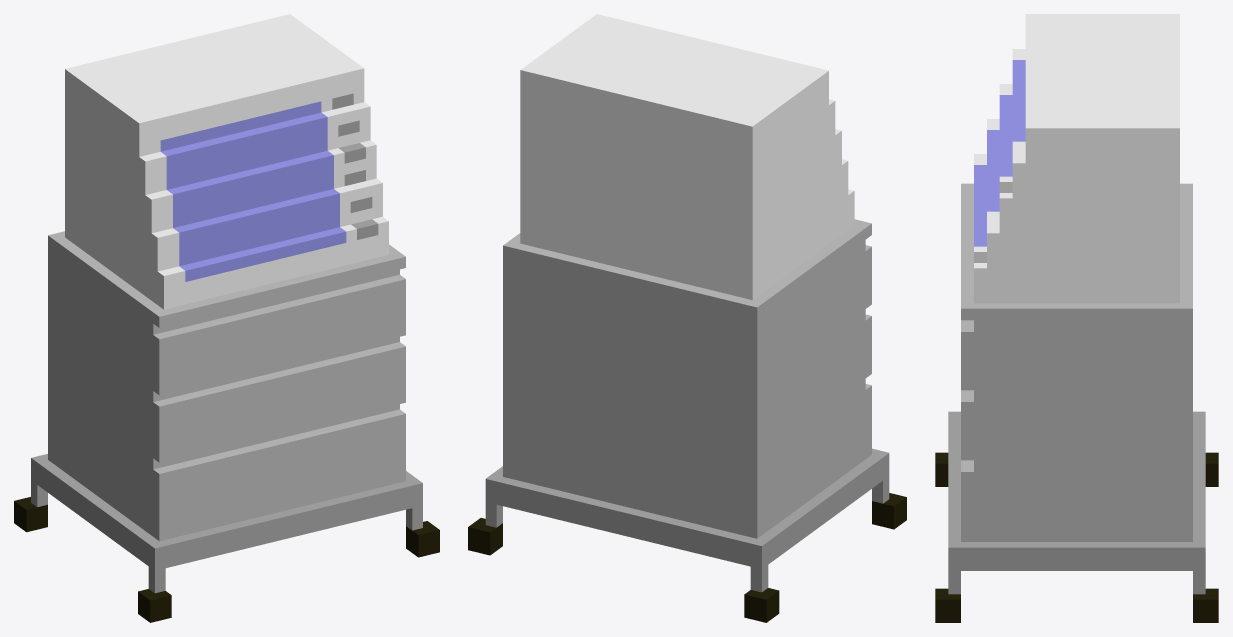
Rendered from Operating_room_Equip2.fbx.
3 views of the same model, side by side, from view 1: azimuth 30°, elevation 25°; view 2: azimuth 150°, elevation 25°; view 3: azimuth 270°, elevation 25° (orthographic). The views are drawn at different scales.
Visible parts, largest first — view 1: Operating room Equip2; view 2: Operating room Equip2; view 3: Operating room Equip2.
Boxes of the visible parts, left/top/right/bottom form: Operating room Equip2: left=14, top=14, right=439, bottom=622; Operating room Equip2: left=468, top=14, right=906, bottom=622; Operating room Equip2: left=935, top=14, right=1218, bottom=622.
Size of the model in its own units: 270 by 410 by 220.
